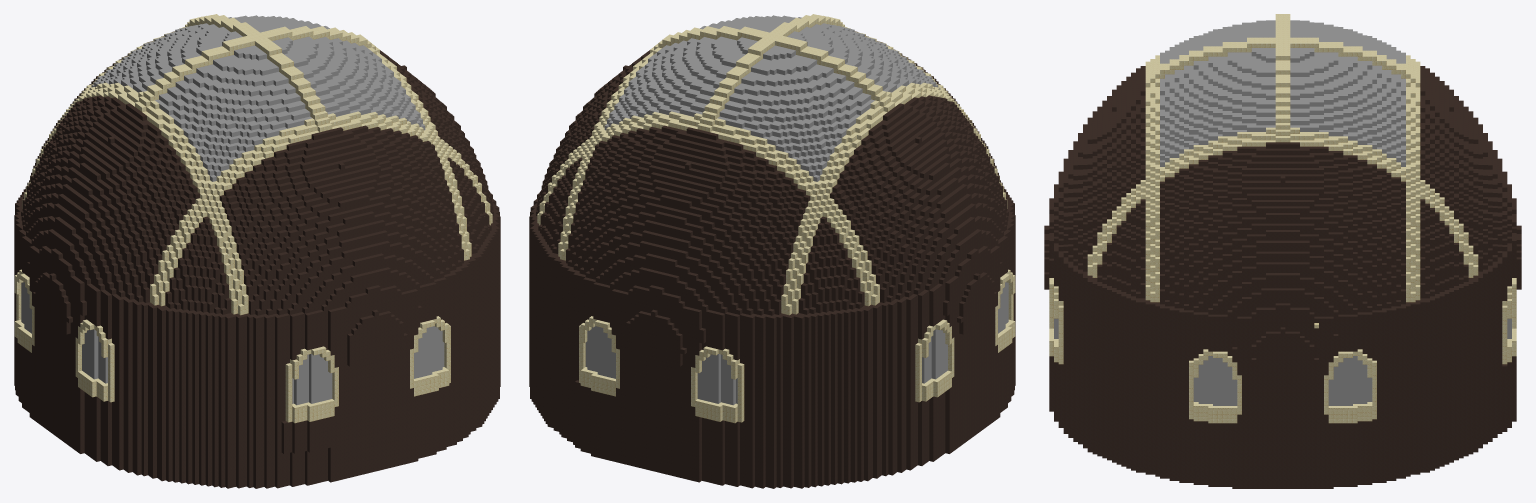
File: minecraft.obj
3 renders of one model, left to right at view 1: azimuth 30°, elevation 25°; view 2: azimuth 150°, elevation 25°; view 3: azimuth 270°, elevation 25°, orthographic.
Bounding box in the file's own units: 99 × 80 × 99.
